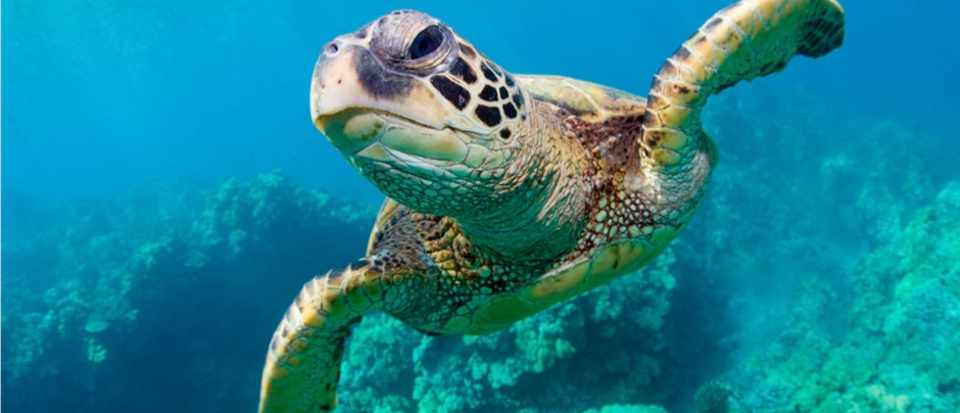trutle: (262, 8, 843, 384)
